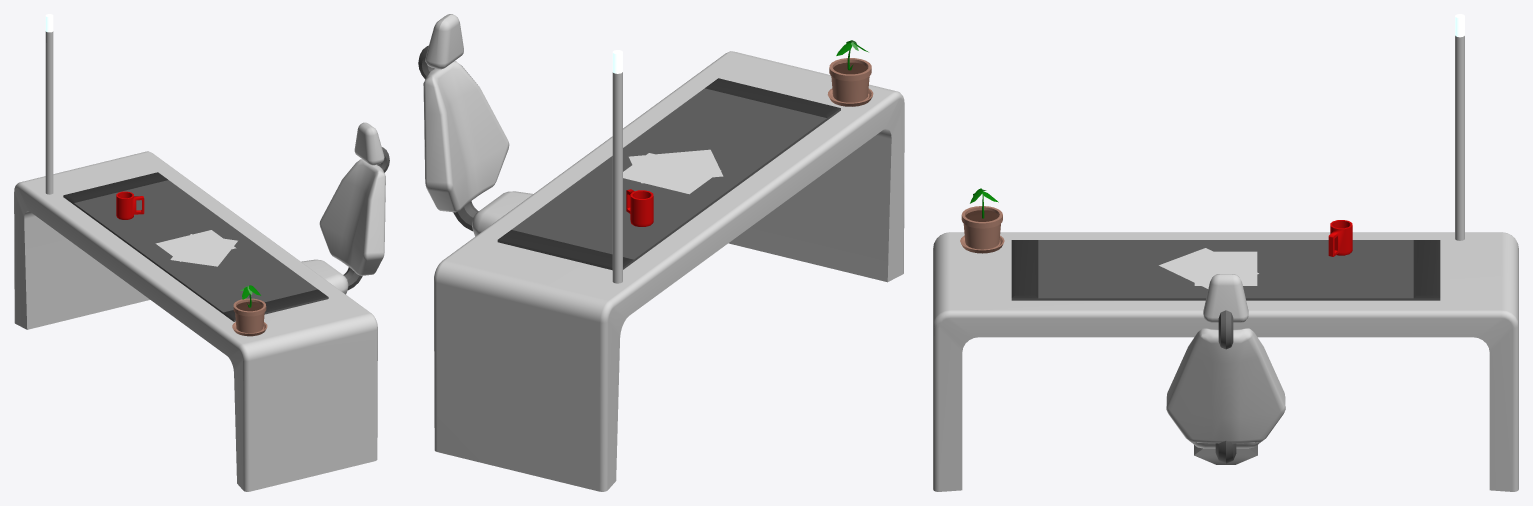
File: Exchange_Office.fbx
3 renders of one model, left to right at view 1: azimuth 30°, elevation 25°; view 2: azimuth 150°, elevation 25°; view 3: azimuth 270°, elevation 25°, orthographic. The views are drawn at different scales.
Parts seen in each view (by area): view 1: Exchange_Desk, Exchange_Blotter, Exchange_Floating_Chair, Exchange_Papers, Exchange_Beacon, Exchange_Plant, Exchange_Coffee_Mug; view 2: Exchange_Desk, Exchange_Blotter, Exchange_Floating_Chair, Exchange_Papers, Exchange_Beacon, Exchange_Plant, Exchange_Coffee_Mug; view 3: Exchange_Desk, Exchange_Blotter, Exchange_Floating_Chair, Exchange_Papers, Exchange_Beacon, Exchange_Plant, Exchange_Coffee_Mug.
Boxes of the visible parts, left/top/right/bottom form: Exchange_Desk: left=14, top=151, right=377, bottom=491; Exchange_Blotter: left=63, top=172, right=328, bottom=321; Exchange_Floating_Chair: left=301, top=122, right=389, bottom=294; Exchange_Papers: left=155, top=230, right=237, bottom=266; Exchange_Beacon: left=45, top=14, right=53, bottom=194; Exchange_Plant: left=232, top=285, right=267, bottom=336; Exchange_Coffee_Mug: left=116, top=191, right=144, bottom=219; Exchange_Desk: left=434, top=51, right=904, bottom=491; Exchange_Blotter: left=497, top=78, right=840, bottom=270; Exchange_Floating_Chair: left=418, top=14, right=532, bottom=236; Exchange_Papers: left=623, top=149, right=723, bottom=194; Exchange_Beacon: left=612, top=50, right=622, bottom=283; Exchange_Plant: left=827, top=40, right=873, bottom=106; Exchange_Coffee_Mug: left=626, top=189, right=653, bottom=226; Exchange_Desk: left=933, top=232, right=1518, bottom=491; Exchange_Blotter: left=1011, top=240, right=1440, bottom=300; Exchange_Floating_Chair: left=1166, top=274, right=1285, bottom=464; Exchange_Papers: left=1159, top=248, right=1258, bottom=288; Exchange_Beacon: left=1455, top=14, right=1464, bottom=240; Exchange_Plant: left=960, top=188, right=1004, bottom=253; Exchange_Coffee_Mug: left=1328, top=220, right=1352, bottom=256.
Size of what is drawn, in the model's own units: 511 by 600 by 791.
